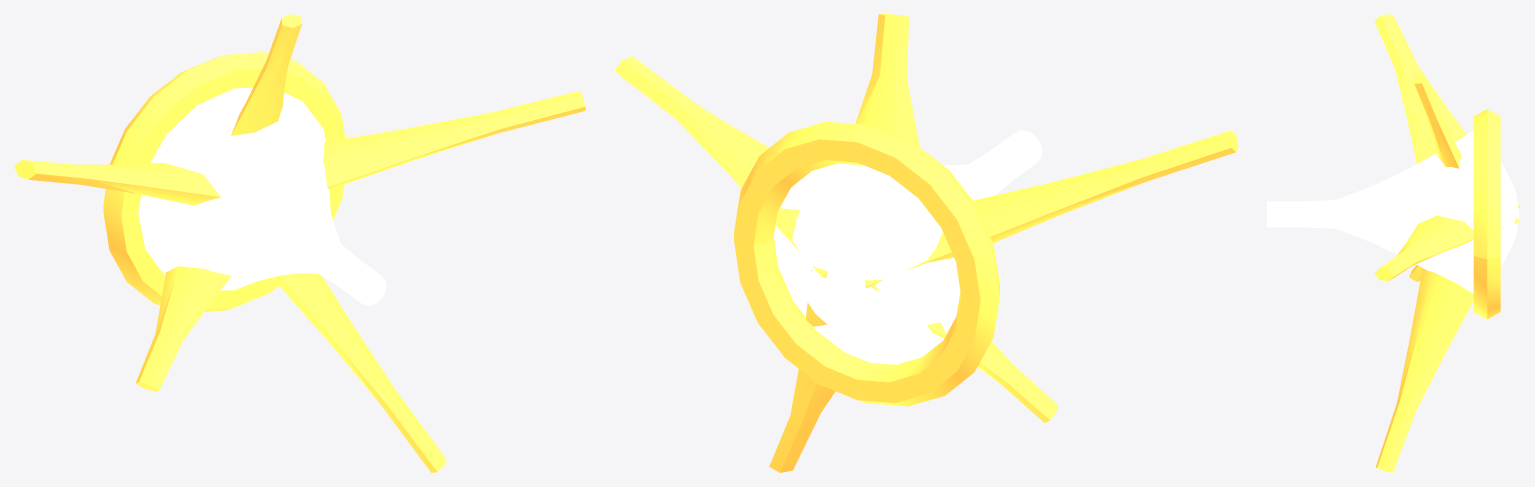
Rendered from vfx-mesh-library-muzzle-star-flash-small-b2bc6d48.glb.
The picture shows the model from 3 angles, left to right: view 1: azimuth 30°, elevation 25°; view 2: azimuth 150°, elevation 25°; view 3: azimuth 270°, elevation 25°; orthographic projection. The views are drawn at different scales.
Visible parts, largest first — view 1: muzzle-star-flash-small; view 2: muzzle-star-flash-small; view 3: muzzle-star-flash-small.
Boxes of the visible parts, bbox=[...] form: muzzle-star-flash-small: bbox=[14, 14, 585, 472]; muzzle-star-flash-small: bbox=[614, 14, 1238, 472]; muzzle-star-flash-small: bbox=[1267, 14, 1520, 472].
Size of the model in its own units: 0.4566 by 0.3589 by 0.2353.
